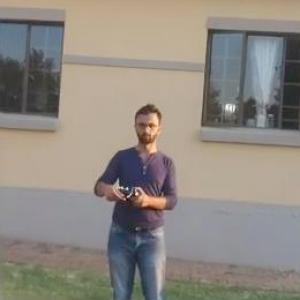follow: (83, 93, 185, 299)
